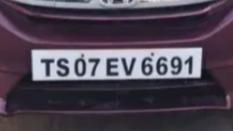0: (72, 54, 87, 78)
1: (183, 53, 196, 76)
6: (140, 54, 154, 79), (155, 54, 169, 78)
7: (86, 57, 103, 79)
9: (170, 54, 183, 79)
E: (106, 53, 121, 79)
S: (55, 55, 71, 79)
T: (39, 56, 56, 79)
V: (120, 56, 137, 76)
